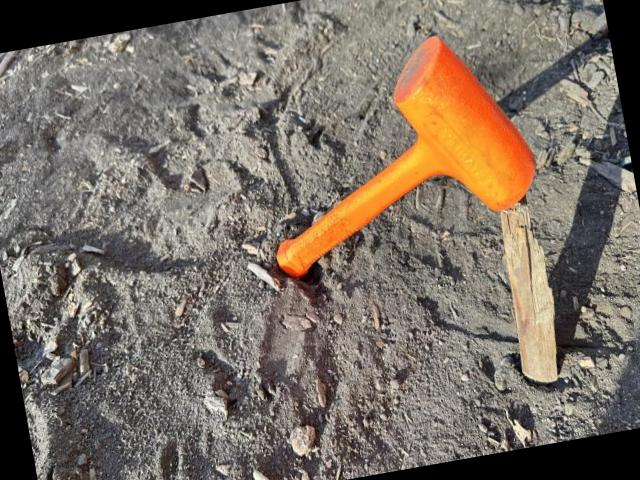hammer: (239, 19, 552, 280)
